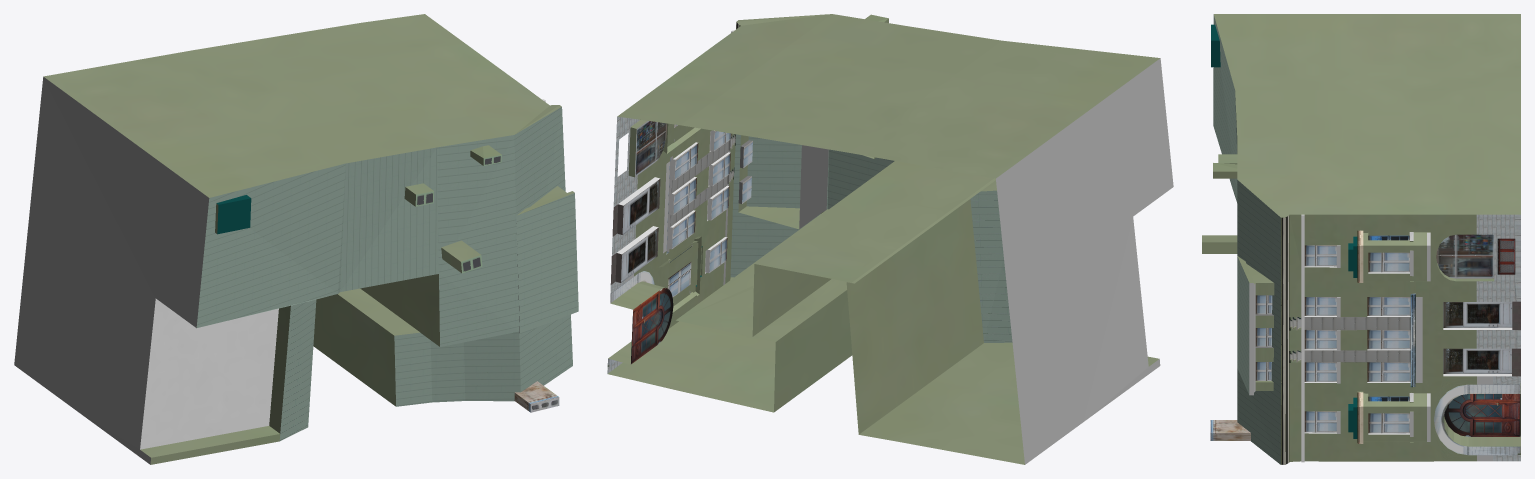
File: Vana-Viru_7.obj
3 views of the same model, side by side, from view 1: azimuth 30°, elevation 25°; view 2: azimuth 150°, elevation 25°; view 3: azimuth 270°, elevation 25° (orthographic). The views are drawn at different scales.
Visible parts, largest first — view 1: Vana_Viru_7; view 2: Vana_Viru_7; view 3: Vana_Viru_7.
Part boxes in pixels (bbox=[...]): Vana_Viru_7: bbox=[14, 14, 578, 464]; Vana_Viru_7: bbox=[607, 14, 1173, 464]; Vana_Viru_7: bbox=[1202, 14, 1520, 464].
Bounding box in the file's own units: 22.82 × 14.59 × 15.58.
